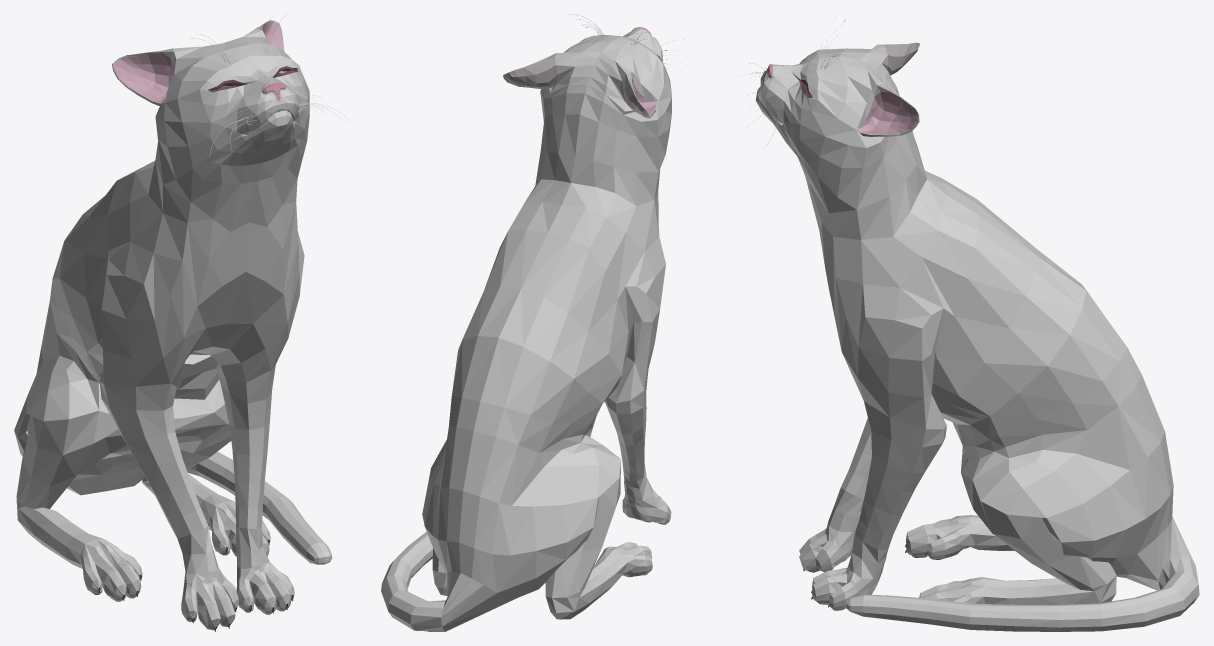
File: Pet_sit_03.glb
3 views of the same model, side by side, from view 1: azimuth 30°, elevation 25°; view 2: azimuth 150°, elevation 25°; view 3: azimuth 270°, elevation 25° (orthographic). The views are drawn at different scales.
Parts seen in each view (by area): view 1: Pet_sit_03; view 2: Pet_sit_03; view 3: Pet_sit_03.
Part boxes in pixels (x1,y1,x2,y2): Pet_sit_03: [14, 14, 351, 631]; Pet_sit_03: [381, 14, 682, 631]; Pet_sit_03: [742, 19, 1199, 631].
Bounding box in the file's own units: 0.1826 × 0.4477 × 0.3404.
Materials: 1 (1 with a texture image).
